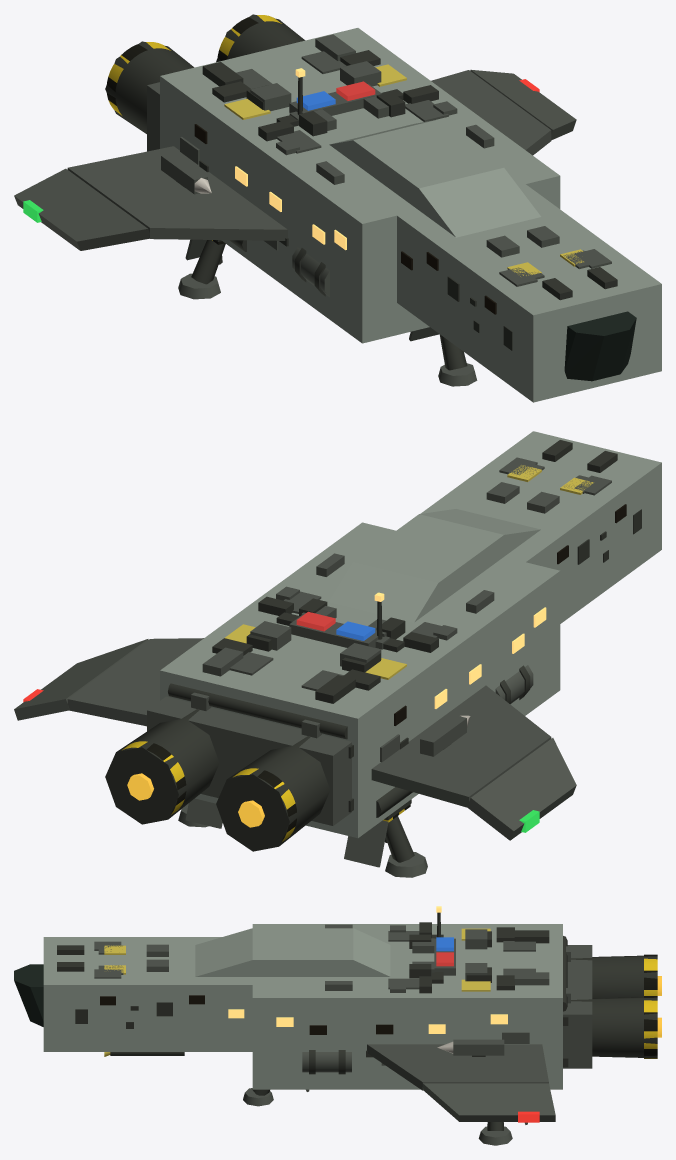
Rendered from police-m.glb.
The picture shows the model from 3 angles, top to bottom: view 1: azimuth 30°, elevation 25°; view 2: azimuth 150°, elevation 25°; view 3: azimuth 270°, elevation 25°; orthographic projection. The views are drawn at different scales.
Visible parts, largest first — view 1: hullMain, hullNose, canopyFairing, wingInnerLeft, wingOuterLeft, engineHousing (×2), cockpitGlass, wingInnerRight, wingOuterRight, gearStrut (×2), gearFoot (×2), missileBody (+8 smaller); view 2: hullMain, hullNose, engineHousing (×2), canopyFairing, wingInnerLeft, engineBayExtension, wingOuterLeft, wingInnerRight, wingOuterRight, propellantHeader, gearBayDoor (×2), missileBody (+6 smaller); view 3: hullMain, hullNose, canopyFairing, wingInnerRight, engineHousing (×2), wingOuterRight, engineBayExtension, cockpitGlass, missileBody, gearFoot (×2), policeShiphullMainPropellantTankR, policeShipAftGreeble0R (+3 smaller).
Boxes of the visible parts, x1=… form: hullMain: x1=160, y1=28, x2=560, y2=343; hullNose: x1=384, y1=174, x2=661, y2=402; canopyFairing: x1=329, y1=119, x2=540, y2=237; wingInnerLeft: x1=67, y1=146, x2=287, y2=240; wingOuterLeft: x1=14, y1=168, x2=149, y2=250; engineHousing (×2): x1=105, y1=14, x2=305, y2=133; cockpitGlass: x1=564, y1=311, x2=636, y2=381; wingInnerRight: x1=431, y1=70, x2=551, y2=155; wingOuterRight: x1=470, y1=69, x2=576, y2=140; gearStrut (×2): x1=191, y1=240, x2=467, y2=370; gearFoot (×2): x1=178, y1=273, x2=477, y2=386; missileBody: x1=161, y1=152, x2=207, y2=194; hullMain: x1=160, y1=522, x2=560, y2=838; hullNose: x1=420, y1=431, x2=661, y2=623; engineHousing (×2): x1=105, y1=709, x2=330, y2=851; canopyFairing: x1=329, y1=509, x2=540, y2=622; wingInnerLeft: x1=371, y1=685, x2=551, y2=807; engineBayExtension: x1=147, y1=696, x2=351, y2=825; wingOuterLeft: x1=467, y1=738, x2=576, y2=840; wingInnerRight: x1=67, y1=638, x2=203, y2=726; wingOuterRight: x1=14, y1=639, x2=148, y2=720; propellantHeader: x1=168, y1=683, x2=347, y2=739; gearBayDoor (×2): x1=185, y1=798, x2=388, y2=867; missileBody: x1=420, y1=715, x2=466, y2=756; hullMain: x1=252, y1=924, x2=562, y2=1089; hullNose: x1=43, y1=937, x2=270, y2=1051; canopyFairing: x1=195, y1=928, x2=390, y2=976; wingInnerRight: x1=367, y1=1044, x2=548, y2=1090; engineHousing (×2): x1=571, y1=955, x2=657, y2=1058; wingOuterRight: x1=422, y1=1083, x2=555, y2=1121; engineBayExtension: x1=563, y1=945, x2=592, y2=1068; cockpitGlass: x1=14, y1=964, x2=43, y2=1026; missileBody: x1=453, y1=1039, x2=504, y2=1055; gearFoot (×2): x1=243, y1=1088, x2=512, y2=1145; policeShiphullMainPropellantTankR: x1=302, y1=1052, x2=351, y2=1072; policeShipAftGreeble0R: x1=514, y1=972, x2=549, y2=985.
Bounding box in the file's own units: 3.3 × 1.45 × 4.8.
